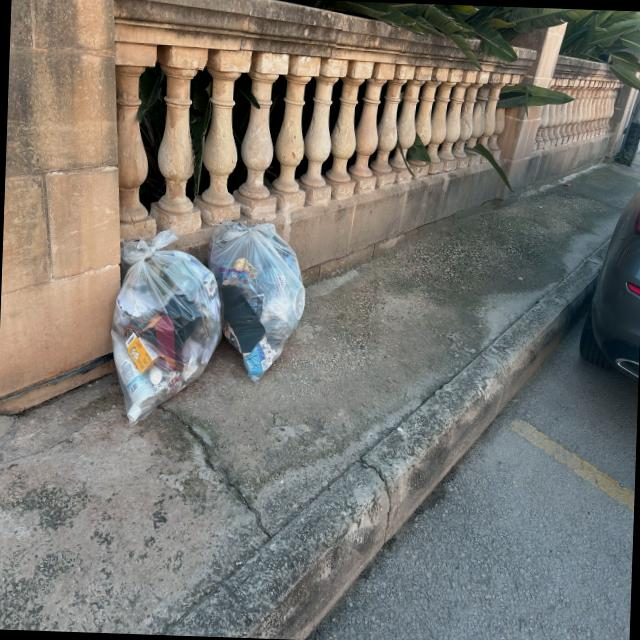grey_bag: (106, 222, 226, 429), (202, 217, 310, 386)
